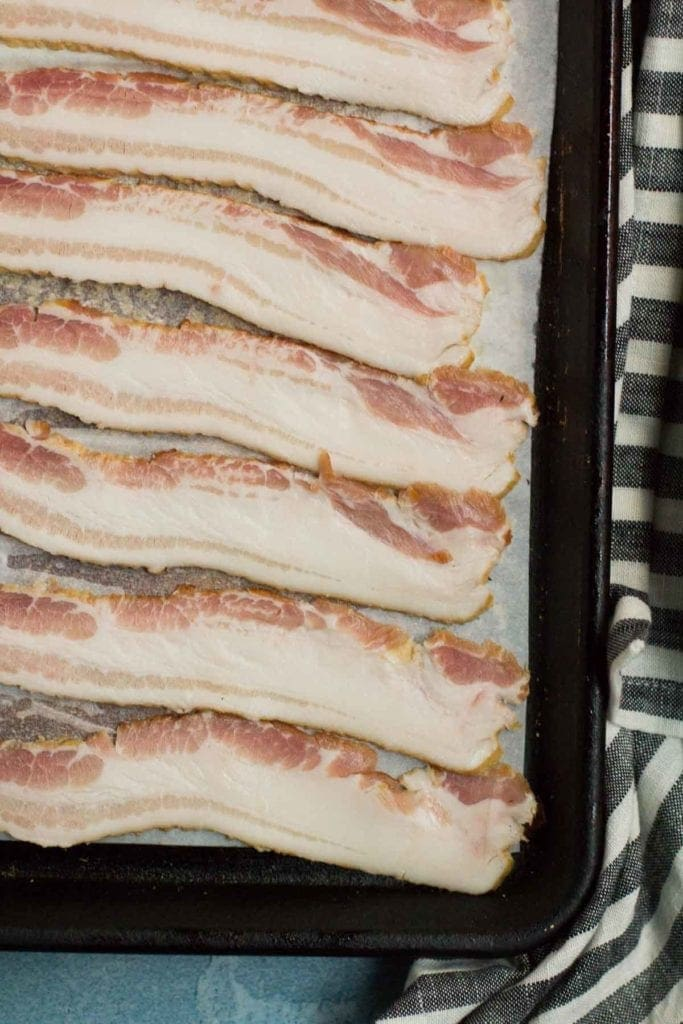bacon: (1, 1, 527, 908)
